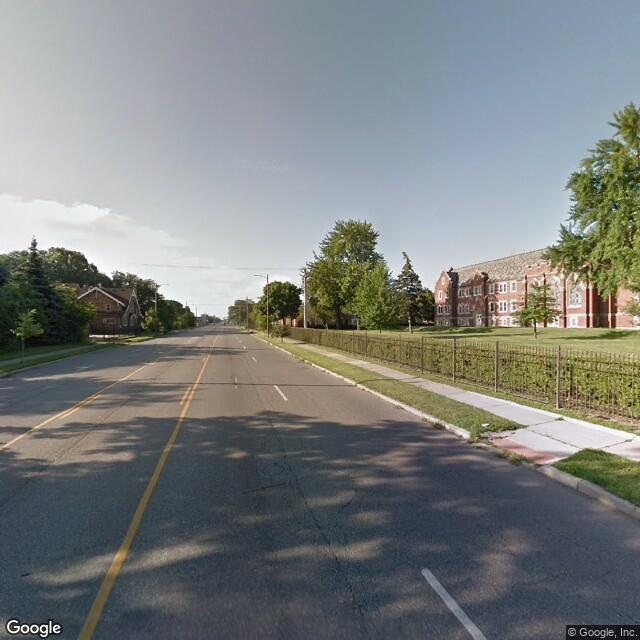litter: (480, 423, 492, 427)
